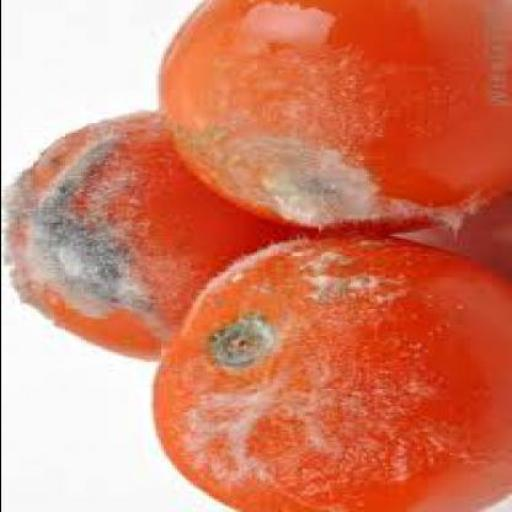biodegradable: (143, 238, 507, 510), (155, 2, 510, 236), (1, 112, 326, 364)
